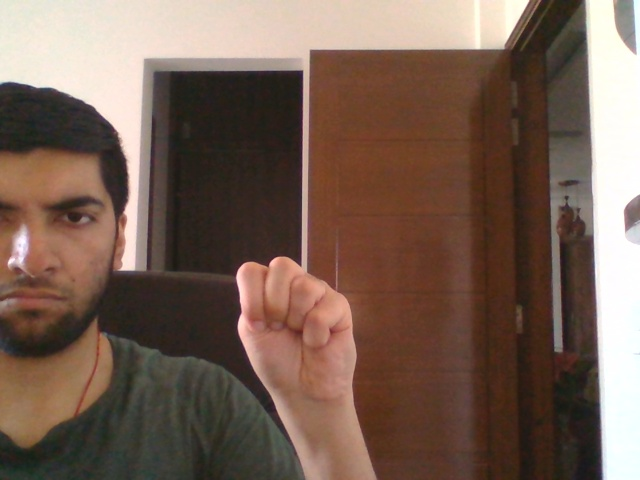LetterM: (235, 256, 358, 404)
